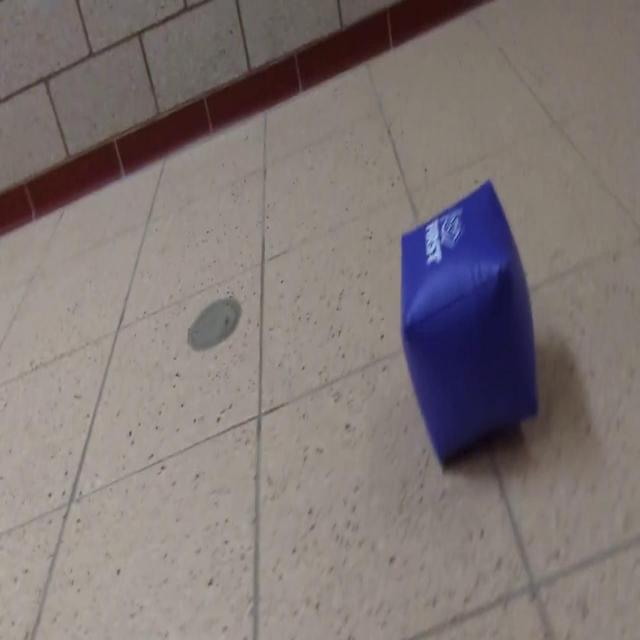frc_cube: (400, 176, 540, 466)
